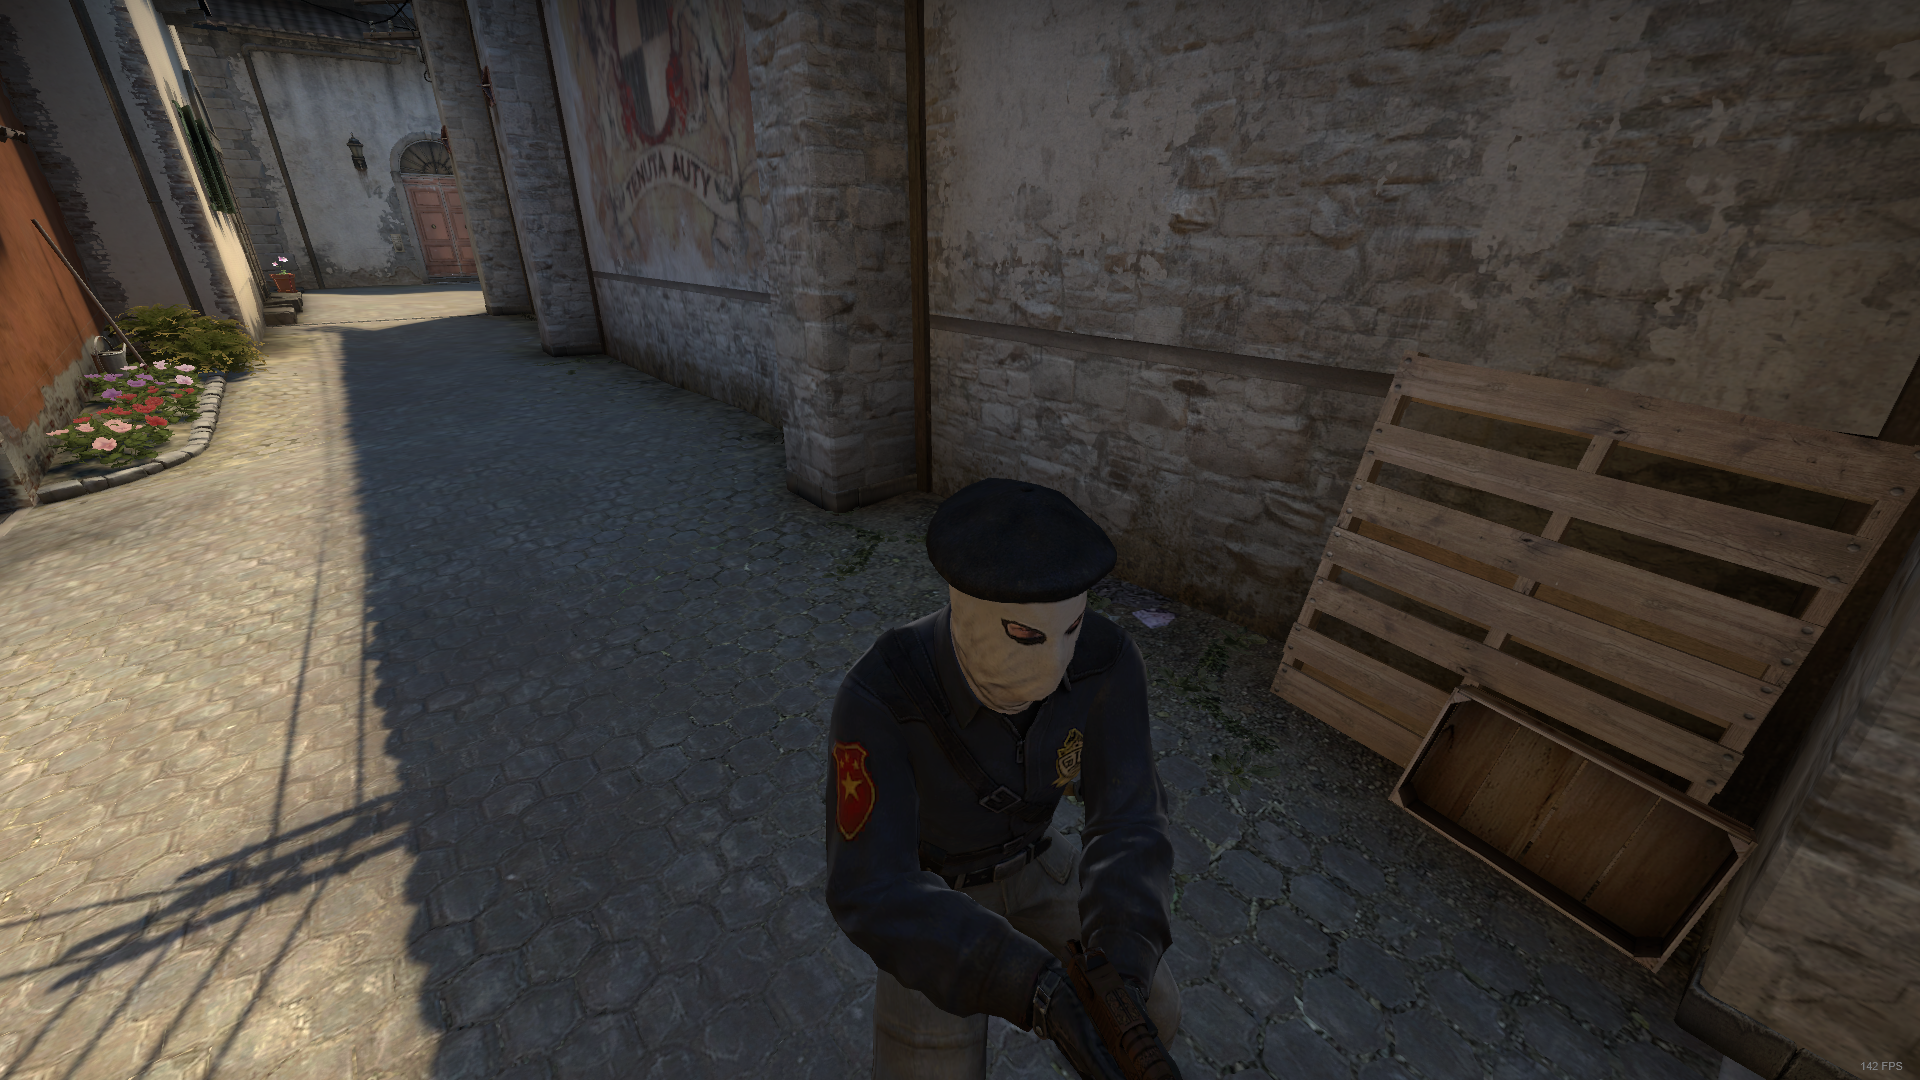t: (803, 473, 1208, 1080)
